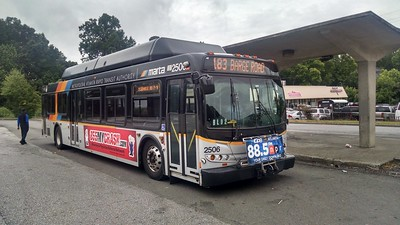bus: (41, 35, 295, 191)
